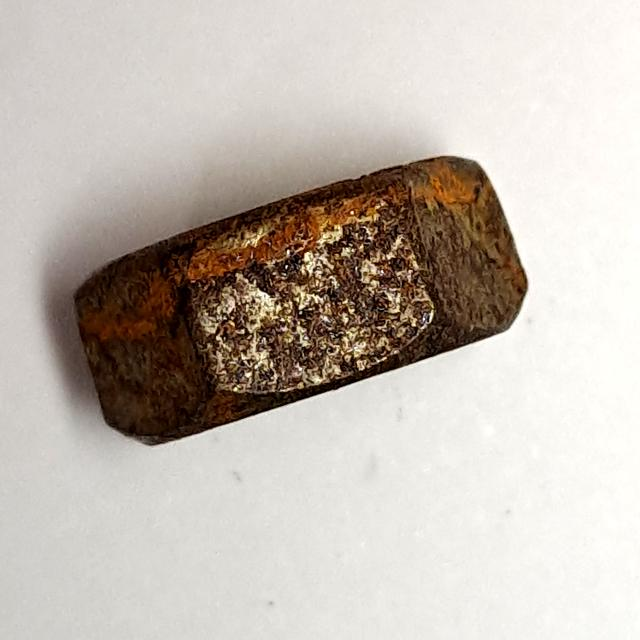Side_Rust: (59, 141, 547, 464)
